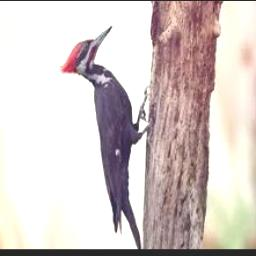Woodpecker: (60, 24, 151, 249)
